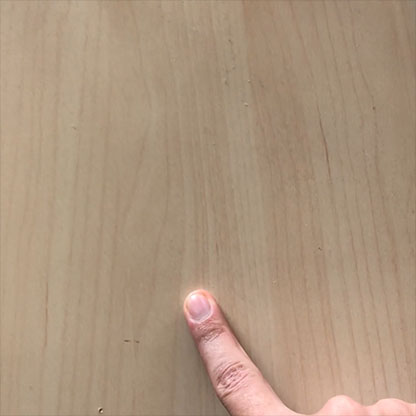fingertip: (180, 288, 223, 335)
